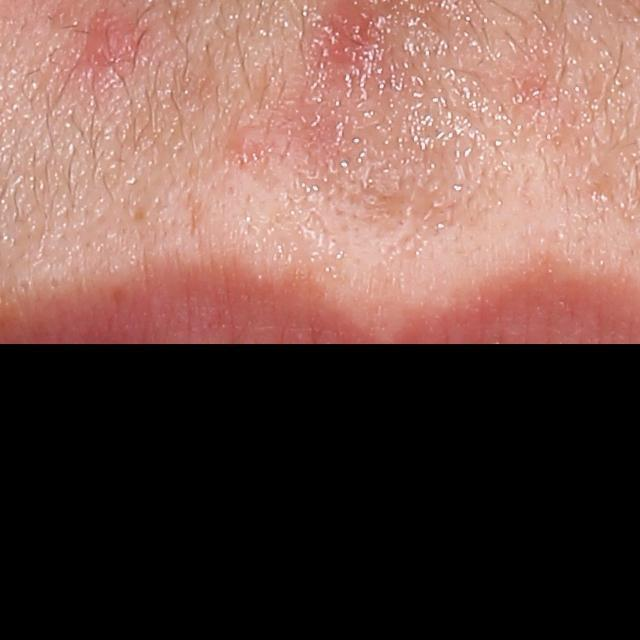papule: (322, 6, 369, 68), (89, 23, 131, 66)
